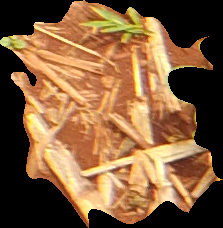soil: (1, 1, 222, 228)
